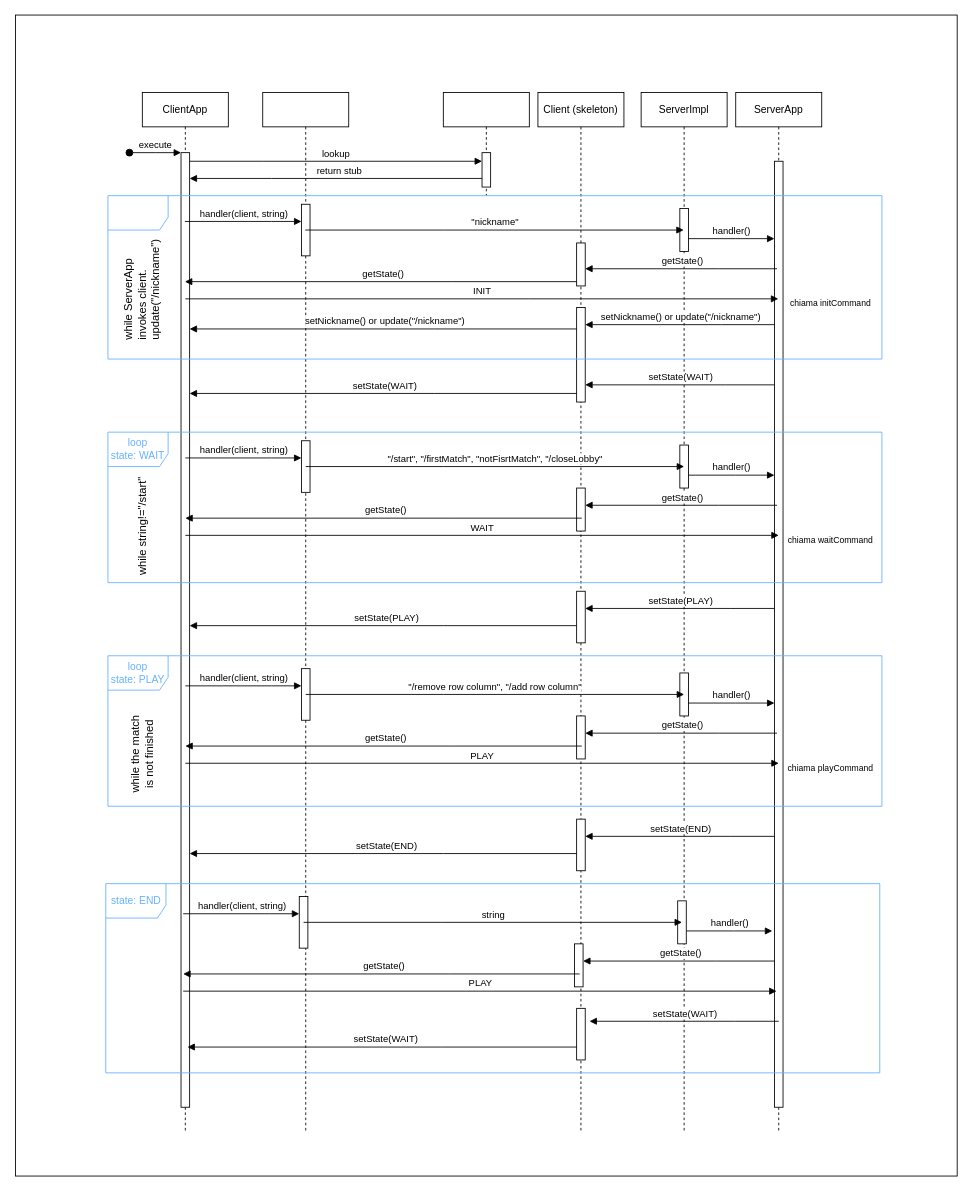
Image size: 972x1191. Some labels were removed from this diagram. The shapes that lost their labels are listed below. From the top down, each one's box as (x1, y1, x2, y2) in pixels, then its label:
(442, 92, 529, 196): RMI Registry
(107, 195, 882, 359): loop state: INIT
(262, 92, 349, 1133): Server (stub)
